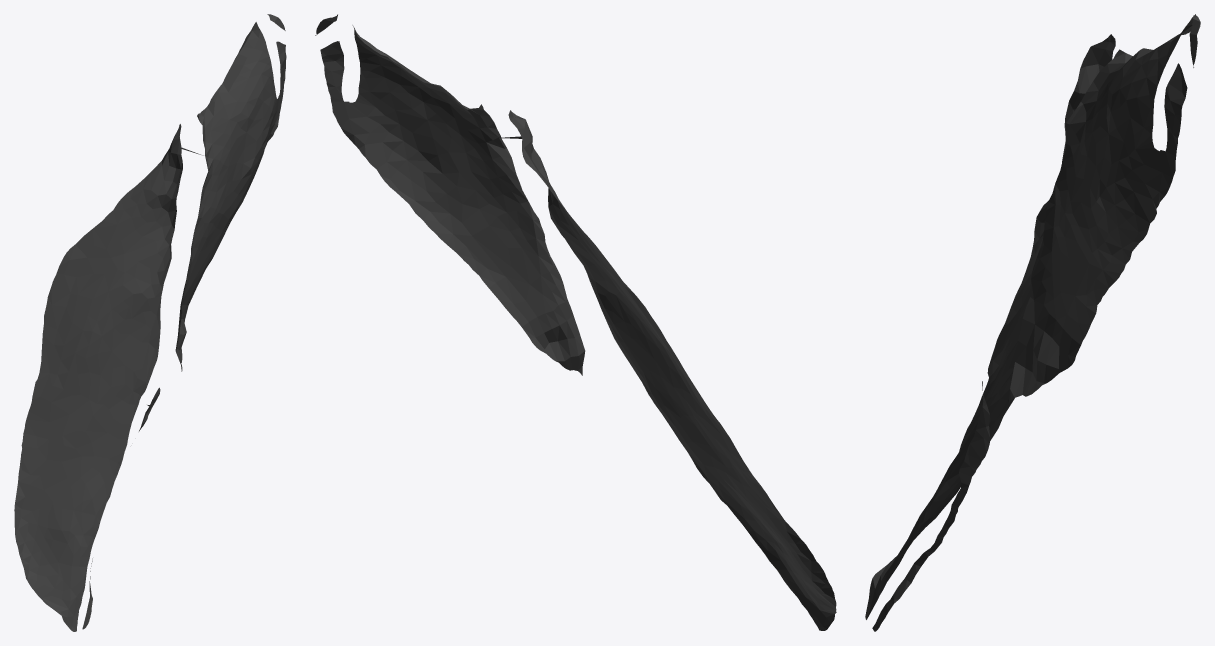
Rendered from M_adductor_M_adductor.glb.
The picture shows the model from 3 angles, left to right: view 1: azimuth 30°, elevation 25°; view 2: azimuth 150°, elevation 25°; view 3: azimuth 270°, elevation 25°; orthographic projection. The views are drawn at different scales.
Visible parts, largest first — view 1: M_adductor_M_adductor; view 2: M_adductor_M_adductor; view 3: M_adductor_M_adductor.
Part boxes in pixels (box(x1,y1,x2,y2)): M_adductor_M_adductor: box(14, 14, 286, 631); M_adductor_M_adductor: box(315, 14, 836, 630); M_adductor_M_adductor: box(865, 14, 1200, 631).
Size of the model in its own units: 0.0377 by 0.052 by 0.0185.
1 material, 1 textured.
